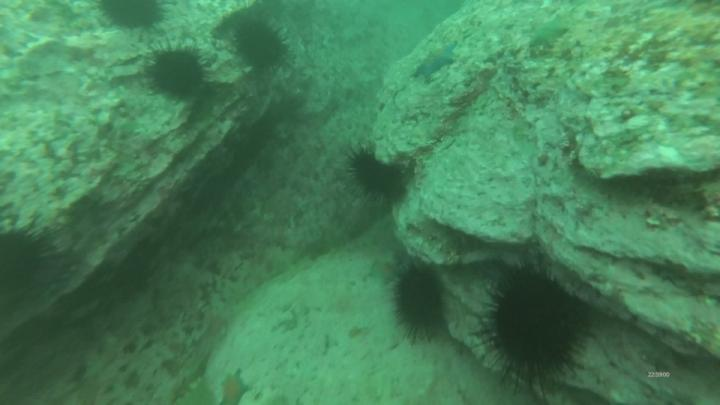echinus: (492, 277, 577, 374), (394, 268, 442, 334), (2, 235, 48, 299), (151, 49, 203, 100), (353, 152, 405, 200), (235, 25, 284, 68), (103, 3, 163, 29)
starfish: (415, 48, 453, 82), (531, 13, 569, 46), (221, 374, 248, 405)
